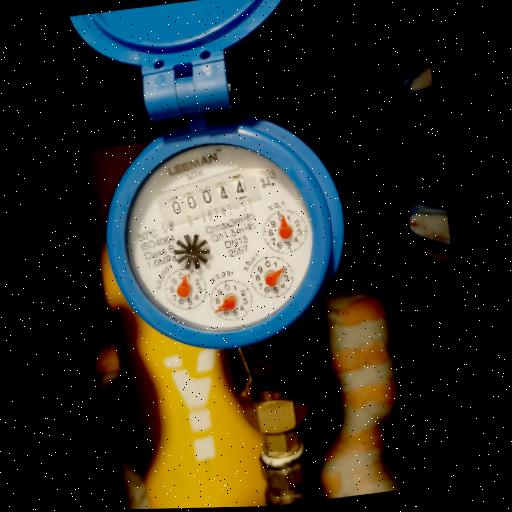0: (197, 183, 218, 210), (167, 193, 186, 219), (182, 189, 202, 213)
4: (229, 172, 251, 202), (213, 178, 233, 205)
border_water_meter_number: (153, 163, 264, 232)
